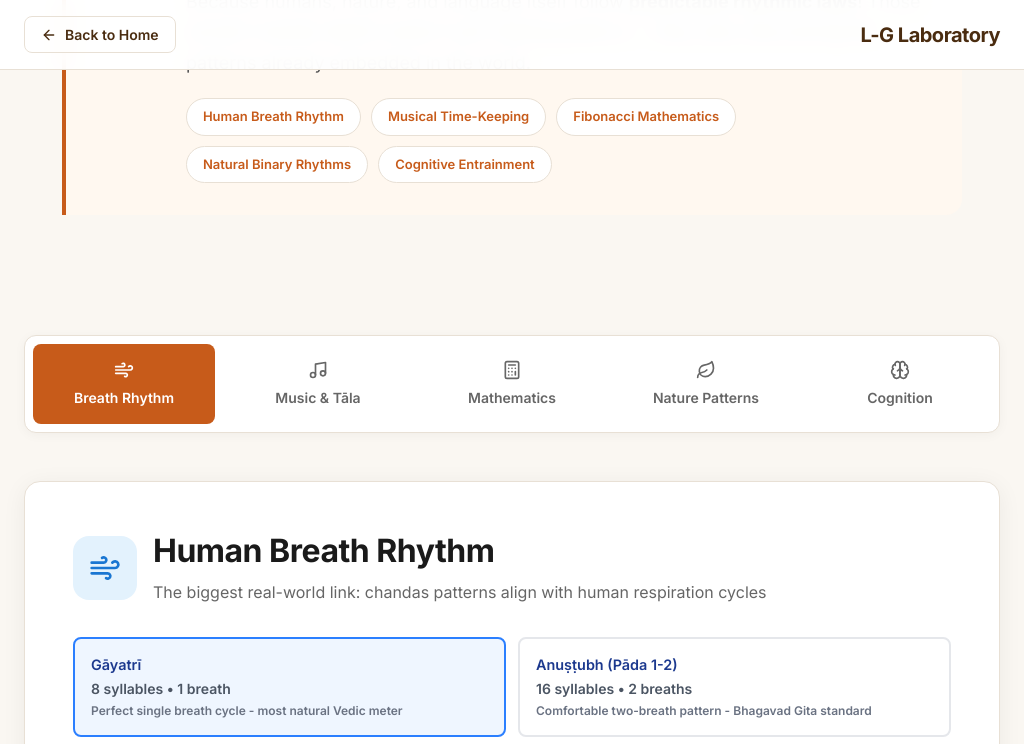
Test: LGLab › switches to the Cognition tab
(page scrolled)
Click the button "Cognition" at (900, 384), box top-left (809, 344), bottom-right (991, 424)
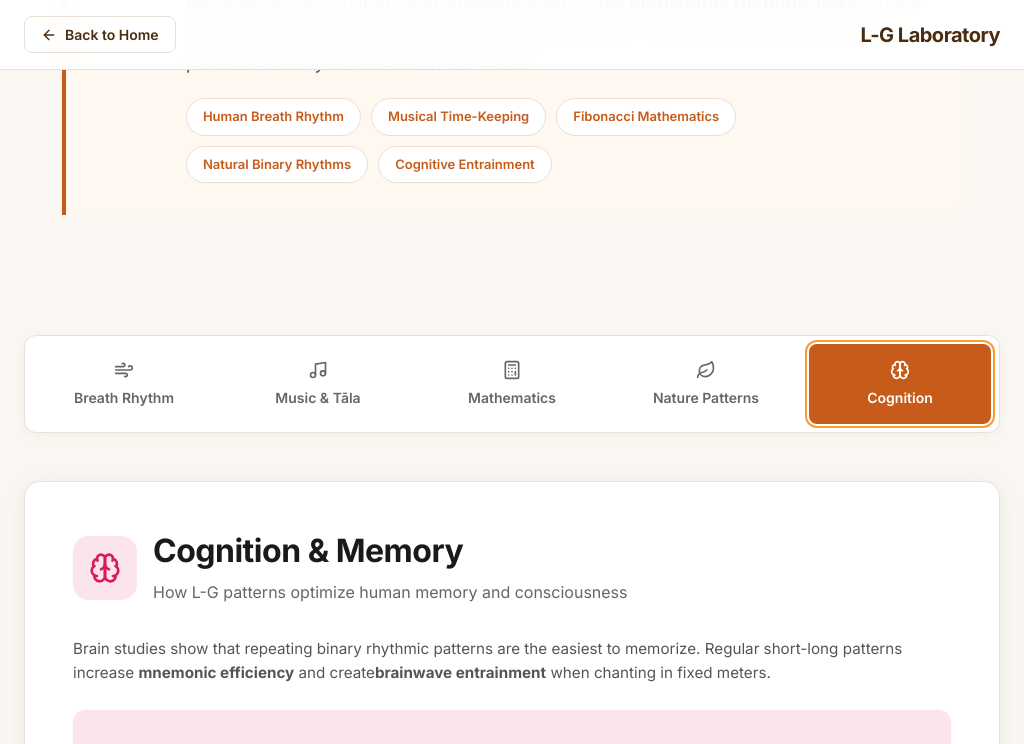
Check: the heading "Cognition & Memory" is shown, box top-left (153, 531), bottom-right (463, 570)
